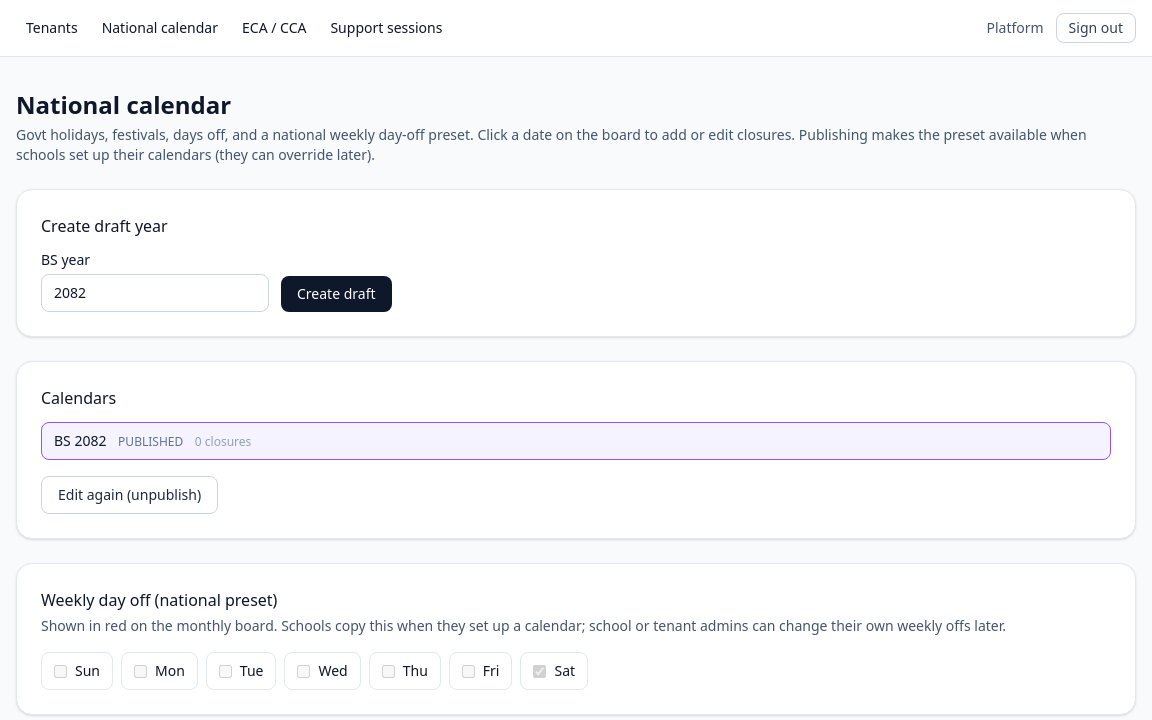
Test: NationalCalendarPage › shows Edit again for a published calendar and unpublishes to draft
Click the button with test id "national-calendar-unpublish" at coordinates (130, 495), box [41,476,218,514]
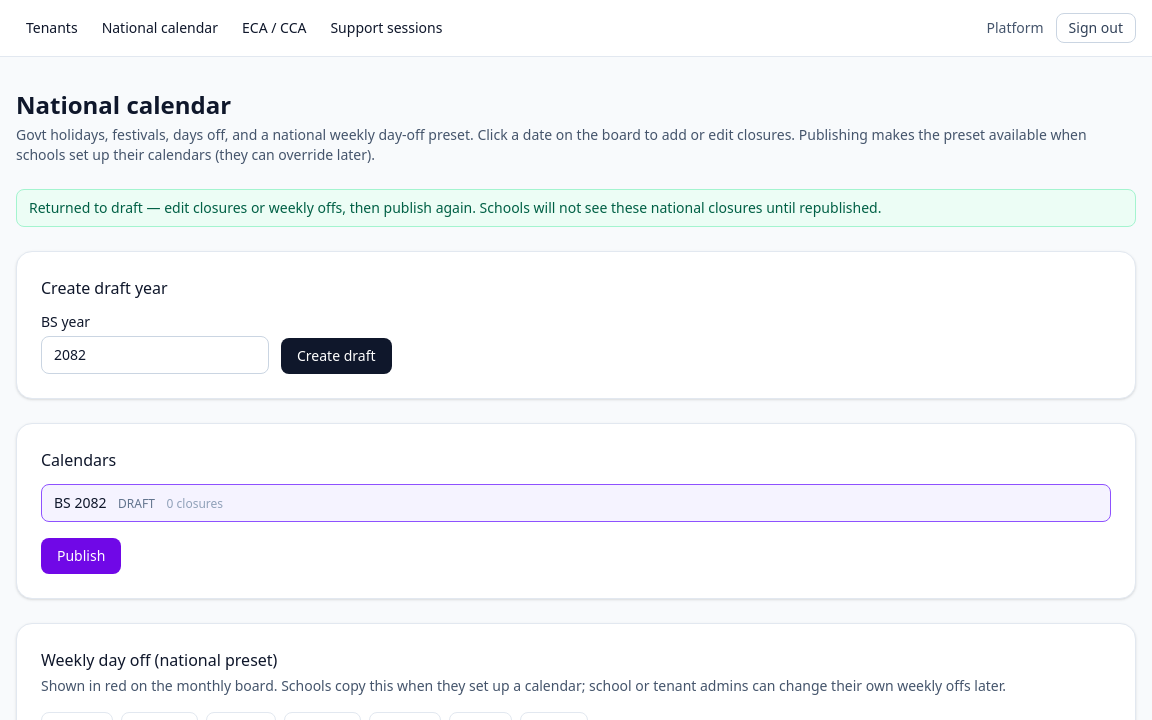
Expected: the button with test id "national-calendar-publish" is shown, [41,538,121,574]
Expected: the text "Returned to draft" is shown, [29,198,882,217]
